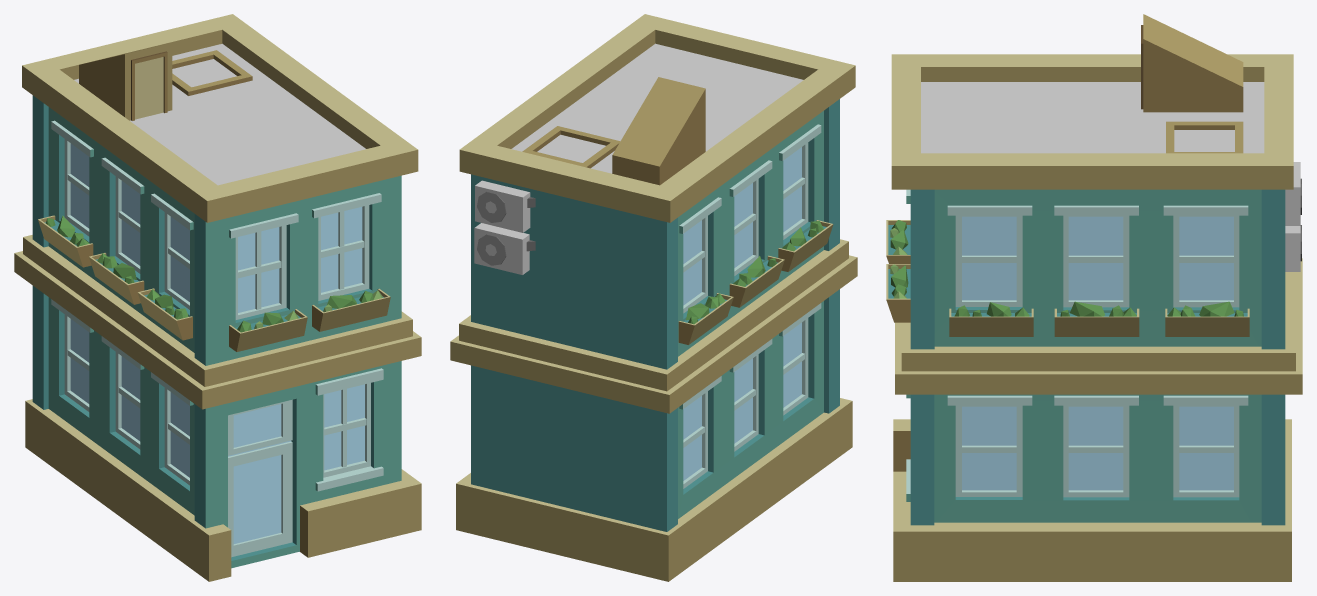
Rendered from house_small_1_010.fbx.
3 renders of one model, left to right at view 1: azimuth 30°, elevation 25°; view 2: azimuth 150°, elevation 25°; view 3: azimuth 270°, elevation 25°, orthographic. The views are drawn at different scales.
Visible parts, largest first — view 1: house_small_1_010; view 2: house_small_1_010; view 3: house_small_1_010.
Boxes of the visible parts, left/top/right/bottom form: house_small_1_010: left=14, top=14, right=421, bottom=581; house_small_1_010: left=450, top=14, right=857, bottom=581; house_small_1_010: left=886, top=14, right=1302, bottom=581.
Size of the model in its own units: 377 by 713 by 571.
